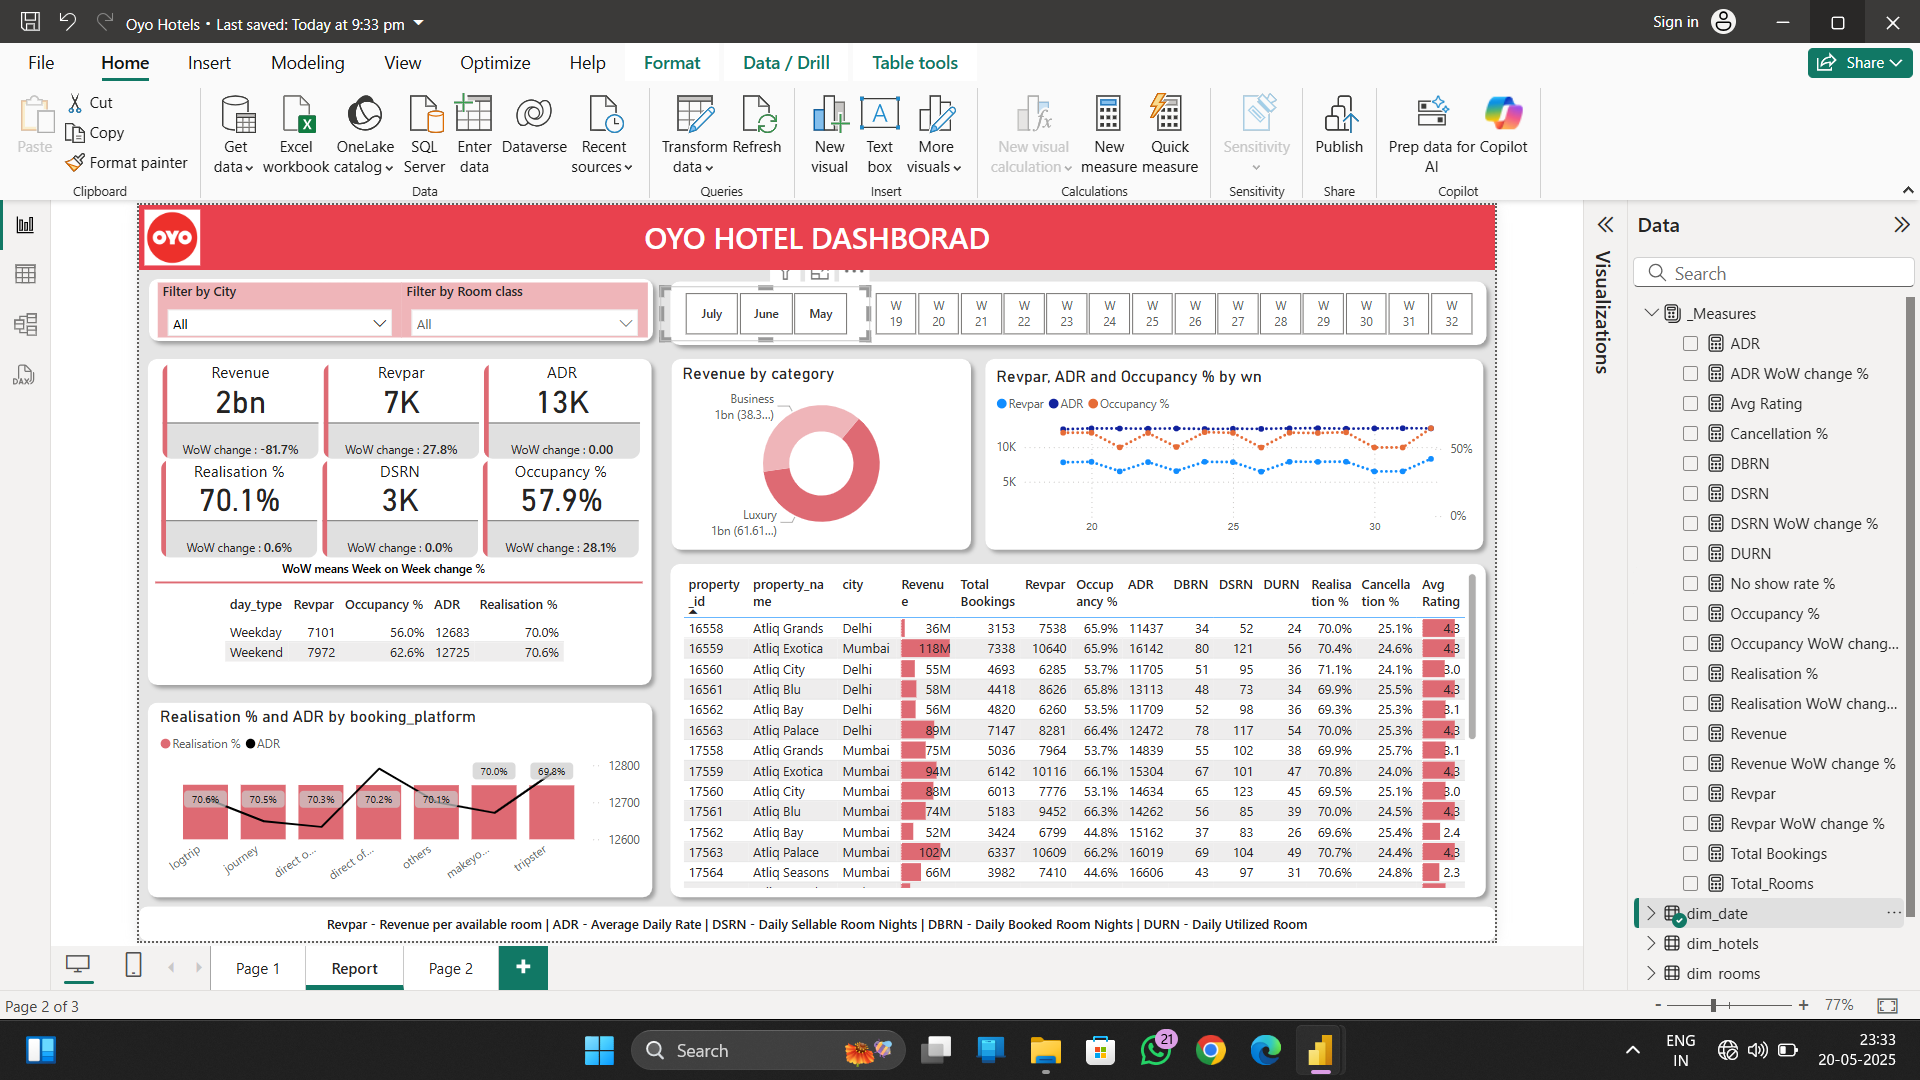

Layout of this report page (visuals, bound fields, positions):
{"tool":"powerbi","page":{"name":"Report","canvas":[1400,760],"ordinal":1},"visuals":[{"type":"shape","box":[1.3,67.1,538.3,82.6],"z":0},{"type":"shape","box":[539.5,69.7,860.9,83.9],"z":1000},{"type":"shape","box":[0,149.7,538.3,355],"z":2000},{"type":"shape","box":[0,504.7,539.5,219.4],"z":3000},{"type":"shape","box":[540.8,149.7,327.9,215.6],"z":4000},{"type":"shape","box":[864.8,149.7,533.1,215.6],"z":5000},{"type":"shape","box":[539.5,361.4,860.9,362.7],"z":6000},{"type":"tableEx","fields":{"Values":["dim_hotels.property_id","dim_hotels.property_name","dim_hotels.city","_Measures.Revenue","_Measures.Total Bookings","_Measures.Revpar","_Measures.Occupancy %","_Measures.ADR","_Measures.DBRN","_Measures.DSRN","_Measures.DURN","_Measures.Realisation %"]},"box":[556.3,375.6,830,334.3],"z":7000},{"type":"donutChart","fields":{"Category":["dim_hotels.category"],"Y":["_Measures.Revenue"]},"box":[556.3,163.9,296.9,187.2],"z":8000},{"type":"slicer","title":"Filter by City","fields":{"Values":["dim_hotels.city"]},"box":[19.4,80,251.7,56.8],"z":9000},{"type":"slicer","title":"Filter by Room class","fields":{"Values":["dim_rooms.room_class"]},"box":[271.1,80,254.3,56.8],"z":10000},{"type":"slicer","fields":{"Values":["dim_date.Month_Name"]},"box":[538.3,83.9,216.8,56.8],"z":11000},{"type":"slicer","fields":{"Values":["dim_date.week no1"]},"box":[734.4,83.9,666,56.8],"z":12000},{"type":"lineChart","fields":{"Category":["dim_date.mmm yy.Variation.Date Hierarchy.Month","dim_date.week no"],"Y":["_Measures.Revpar","_Measures.ADR"],"Y2":["_Measures.Occupancy %"]},"box":[880.3,166.5,502.1,182],"z":13000},{"type":"lineStackedColumnComboChart","fields":{"Category":["fact_bookings.booking_platform"],"Y":["_Measures.Realisation %"],"Y2":["_Measures.ADR"]},"box":[16.8,517.6,506,193.6],"z":14000},{"type":"cardVisual","fields":{"Data":["_Measures.Revenue","_Measures.Revpar","_Measures.ADR"]},"box":[19.4,163.9,503.4,98],"z":15000},{"type":"tableEx","fields":{"Values":["dim_date.day_type","_Measures.Revpar","_Measures.Occupancy %","_Measures.ADR","_Measures.Realisation %"]},"box":[82.6,396.3,369.2,86.5],"z":16000},{"type":"shape","box":[16.8,383.4,503.4,12.9],"z":17000},{"type":"shape","box":[0,724.1,1400.5,36.1],"z":18000},{"type":"shape","box":[0,0,1400.5,67.1],"z":19000},{"type":"cardVisual","fields":{"Data":["_Measures.Realisation %","_Measures.DSRN","_Measures.Occupancy %"]},"box":[18.1,263.3,504.7,102],"z":20000},{"type":"image","box":[0,0,68.4,67.1],"z":21000},{"type":"shape","box":[99.4,365.3,306,20],"z":22000}]}

Visuals, with their boxes on the page's 1400x760 design canvas (x1, y1, x2, y2). These are canvas units, not pixel positions in the 1920x1080 screenshot, which may show the page scaled, cropped or inside an application window:
shape: bbox(1, 67, 540, 150)
shape: bbox(540, 70, 1400, 154)
shape: bbox(0, 150, 538, 505)
shape: bbox(0, 505, 540, 724)
shape: bbox(541, 150, 869, 365)
shape: bbox(865, 150, 1398, 365)
shape: bbox(540, 361, 1400, 724)
tableEx - dim_hotels.property_id x dim_hotels.property_name: bbox(556, 376, 1386, 710)
donutChart - dim_hotels.category x _Measures.Revenue: bbox(556, 164, 853, 351)
"Filter by City" slicer: bbox(19, 80, 271, 137)
"Filter by Room class" slicer: bbox(271, 80, 525, 137)
slicer - dim_date.Month_Name: bbox(538, 84, 755, 141)
slicer - dim_date.week no1: bbox(734, 84, 1400, 141)
lineChart - dim_date.mmm yy.Variation.Date Hierarchy.Month x dim_date.week no: bbox(880, 166, 1382, 348)
lineStackedColumnComboChart - fact_bookings.booking_platform x _Measures.Realisation %: bbox(17, 518, 523, 711)
cardVisual - _Measures.Revenue x _Measures.Revpar: bbox(19, 164, 523, 262)
tableEx - dim_date.day_type x _Measures.Revpar: bbox(83, 396, 452, 483)
shape: bbox(17, 383, 520, 396)
shape: bbox(0, 724, 1400, 760)
shape: bbox(0, 0, 1400, 67)
cardVisual - _Measures.Realisation % x _Measures.DSRN: bbox(18, 263, 523, 365)
image: bbox(0, 0, 68, 67)
shape: bbox(99, 365, 405, 385)
